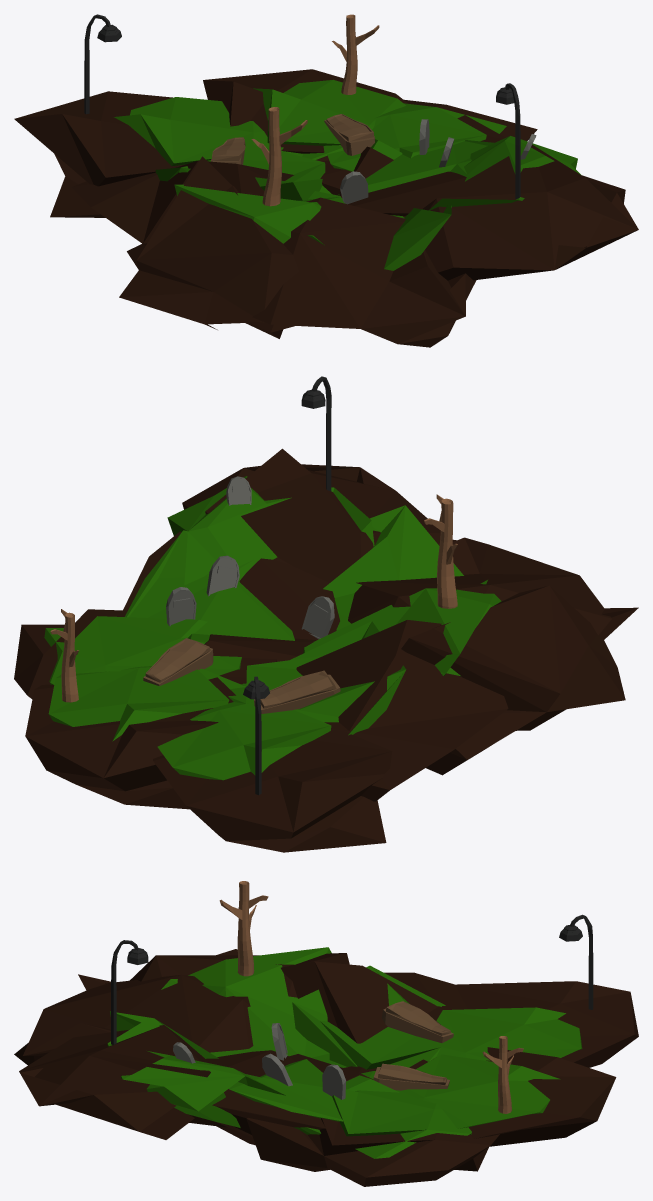
The model's file is cemetary.gltf.
3 views of the same model, one above another, from view 1: azimuth 30°, elevation 25°; view 2: azimuth 150°, elevation 25°; view 3: azimuth 270°, elevation 25° (orthographic). The views are drawn at different scales.
Parts seen in each view (by area): view 1: Icosphere, Cylinder, Plane, Cylinder.001, Cube.001, Cube, GraveStone1.003, Plane.001; view 2: Icosphere, Plane.001, Plane, Cylinder, Cylinder.001, Cube, Cube.001, GraveStone1.003, GraveStone1, GraveStone1.002; view 3: Icosphere, Plane.001, Cylinder, Plane, Cylinder.001, Cube, Cube.001, GraveStone1.002, GraveStone1.
Part boxes in pixels (<box>): Icosphere: <box>14,69,638,347</box>; Cylinder: <box>251,107,307,206</box>; Plane: <box>324,114,374,155</box>; Cylinder.001: <box>332,14,379,94</box>; Cube.001: <box>84,14,121,114</box>; Cube: <box>496,83,520,198</box>; GraveStone1.003: <box>340,171,368,204</box>; Plane.001: <box>211,137,245,164</box>; Icosphere: <box>14,448,638,852</box>; Plane.001: <box>254,670,340,713</box>; Plane: <box>143,638,213,685</box>; Cylinder: <box>424,494,457,608</box>; Cylinder.001: <box>50,609,78,702</box>; Cube: <box>301,376,331,491</box>; Cube.001: <box>243,676,269,795</box>; GraveStone1.003: <box>301,596,334,639</box>; GraveStone1: <box>206,555,239,596</box>; GraveStone1.002: <box>166,587,196,626</box>; Icosphere: <box>14,947,638,1186</box>; Plane.001: <box>382,1001,453,1042</box>; Cylinder: <box>219,881,268,976</box>; Plane: <box>373,1063,449,1090</box>; Cylinder.001: <box>482,1036,523,1113</box>; Cube: <box>111,940,148,1044</box>; Cube.001: <box>559,914,593,1009</box>; GraveStone1.002: <box>322,1064,346,1099</box>; GraveStone1: <box>262,1053,292,1086</box>.
Size of the model in its own units: 14.24 by 6.29 by 16.44.
Materials: 6 (1 with a texture image).
